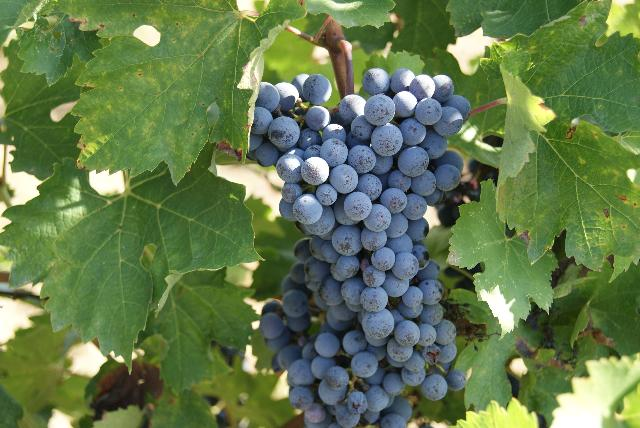grapes: (249, 68, 490, 400)
